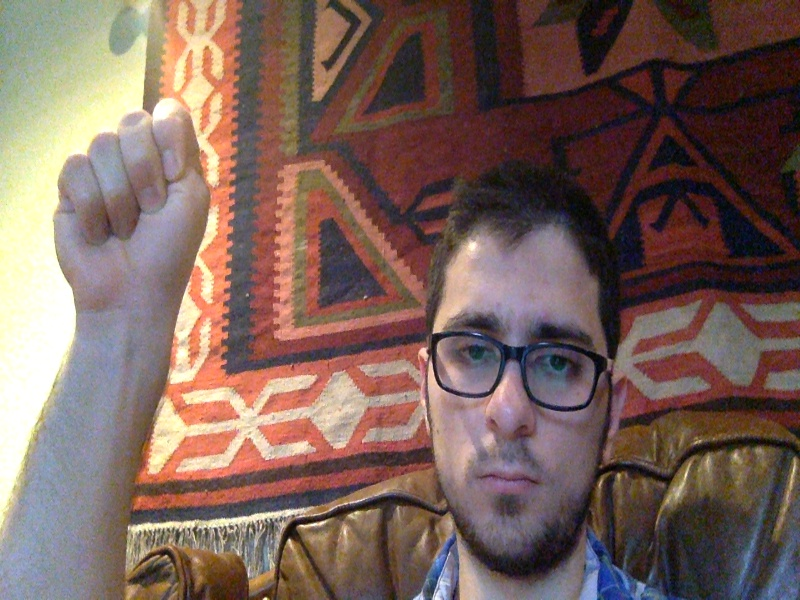0-hand: (51, 100, 210, 317)
